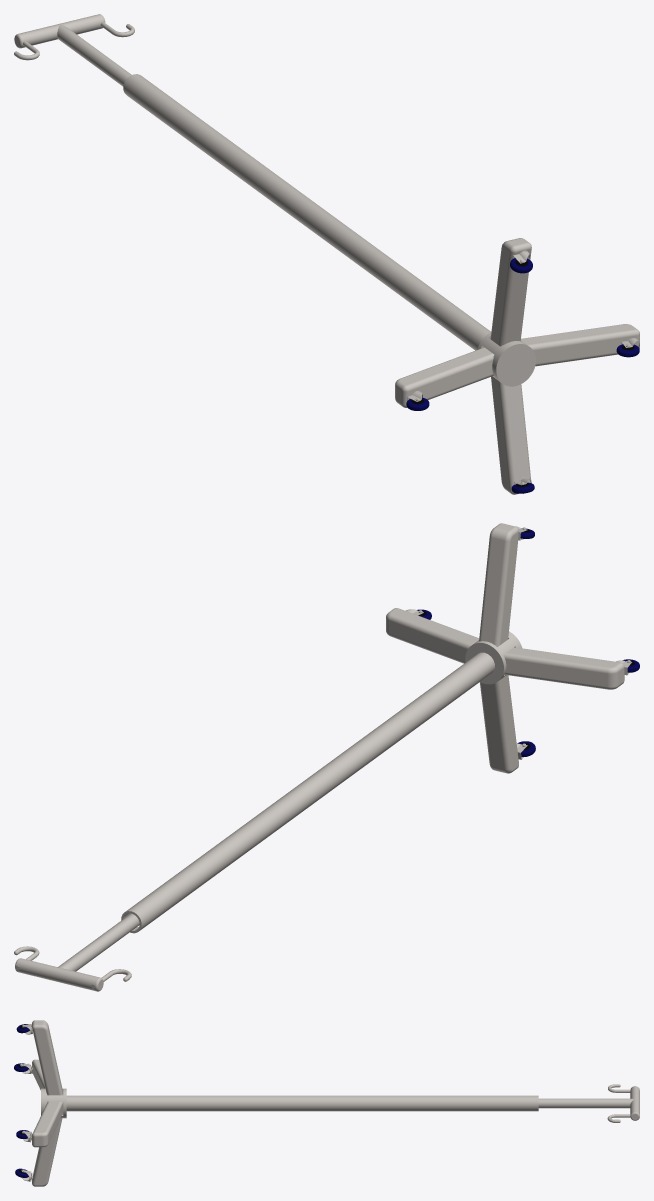
The model's file is posa suero.fbx.
3 renders of one model, top to bottom at view 1: azimuth 30°, elevation 25°; view 2: azimuth 150°, elevation 25°; view 3: azimuth 270°, elevation 25°, orthographic. The views are drawn at different scales.
Visible parts, largest first — view 1: Fillet3, Cut-Extrude1 (×4), Cut-Extrude4; view 2: Fillet3, Cut-Extrude1 (×4), Cut-Extrude4; view 3: Fillet3, Cut-Extrude1 (×3), Cut-Extrude4.
Boxes of the visible parts, bbox=[...] form: Fillet3: bbox=[14, 14, 490, 350]; Cut-Extrude1 (×4): bbox=[395, 238, 639, 494]; Cut-Extrude4: bbox=[477, 332, 535, 386]; Fillet3: bbox=[14, 652, 494, 991]; Cut-Extrude1 (×4): bbox=[386, 523, 624, 773]; Cut-Extrude4: bbox=[465, 631, 522, 684]; Fillet3: bbox=[66, 1084, 639, 1122]; Cut-Extrude1 (×3): bbox=[32, 1020, 63, 1186]; Cut-Extrude4: bbox=[41, 1088, 66, 1118].
Bounding box in the file's own units: 22.31 × 21.91 × 76.74.
